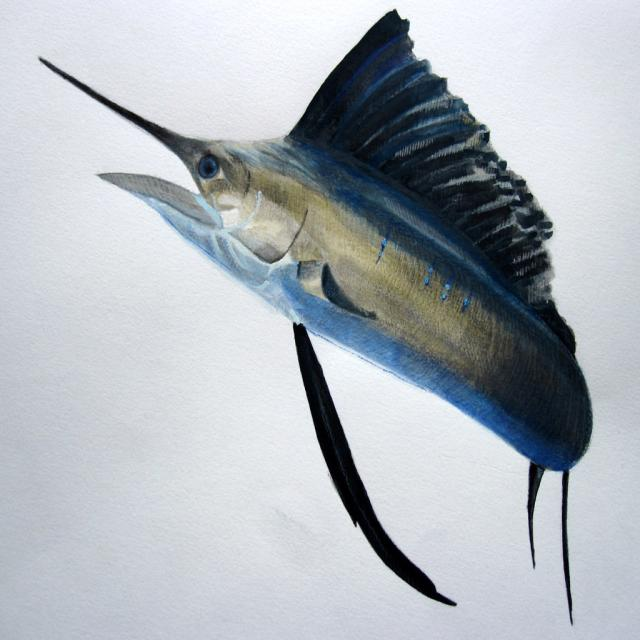Sail Fish: (38, 6, 594, 627)
